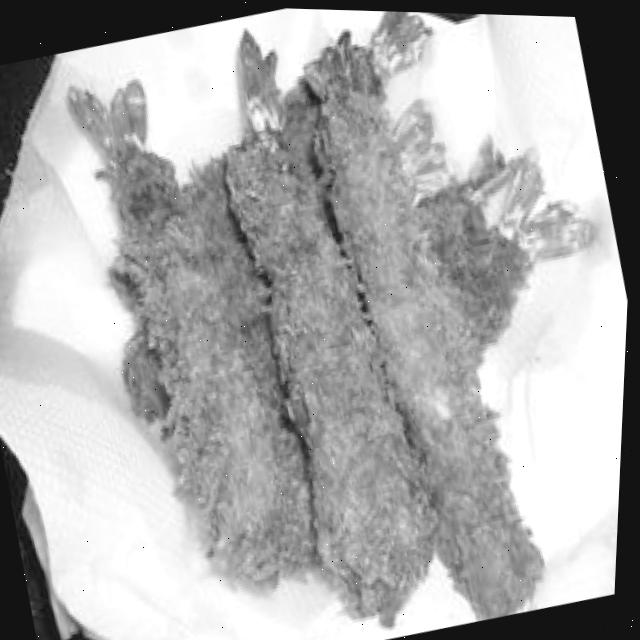炸货点心: (15, 1, 640, 640)
熟制海鲜: (15, 1, 640, 640)
